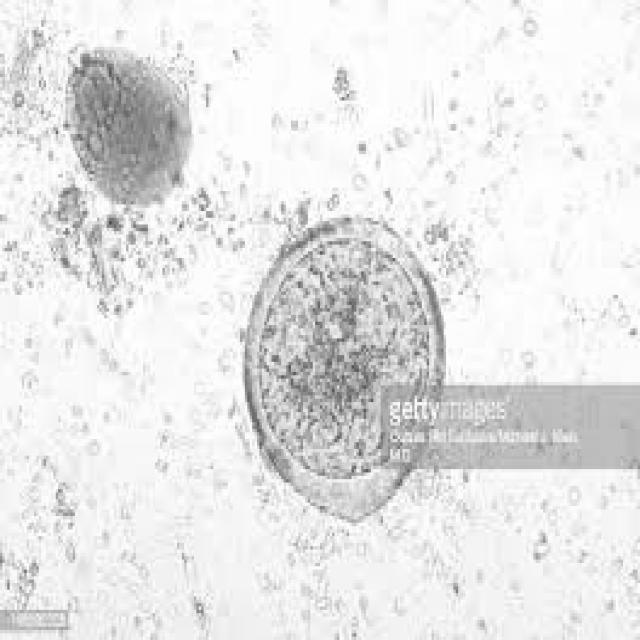Ascaris Lumbricoides: (233, 205, 458, 536)
